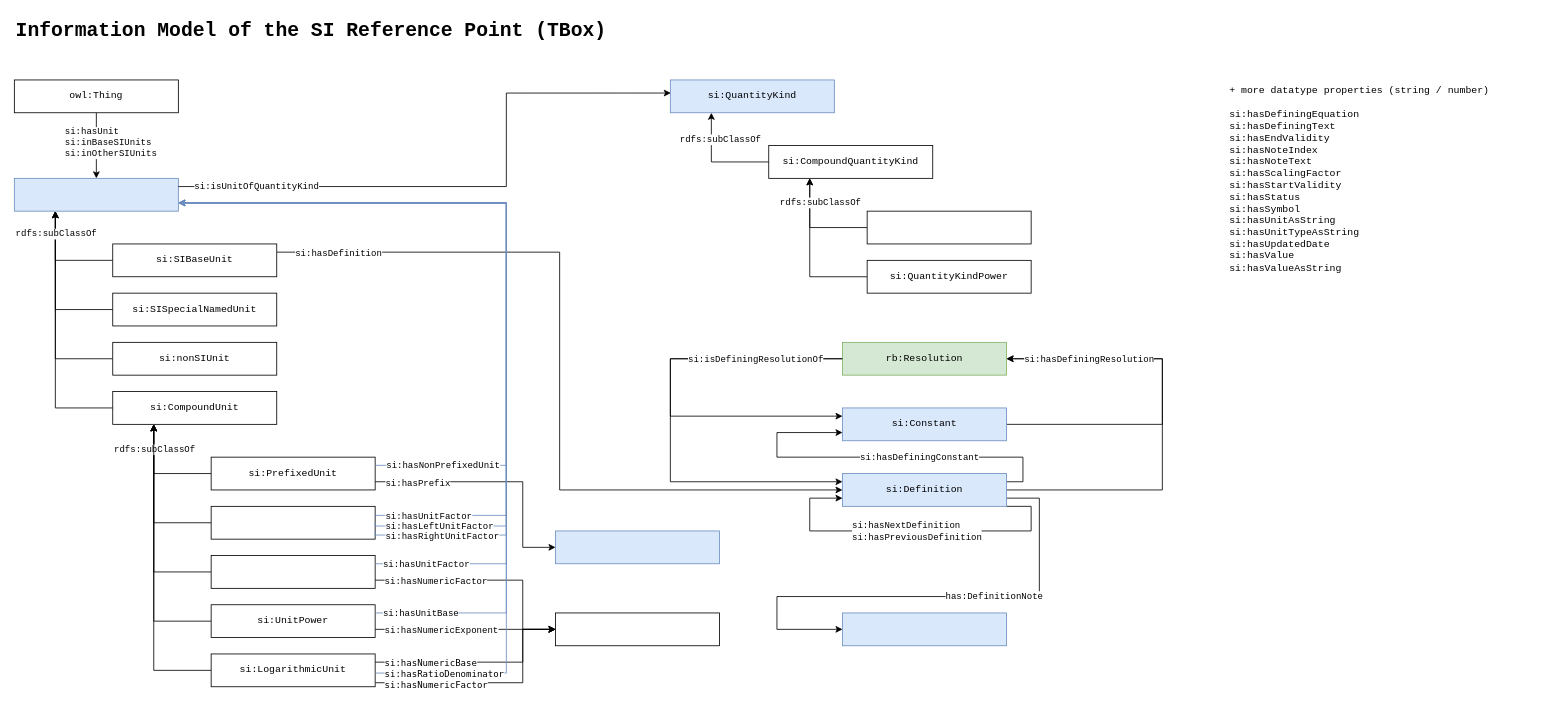
Some shapes in this 1554 by 704 pixel diagram are drawn without their labels. Each missing label, with the centre of its shape:
"<any datatype>" belongs at point 637,629.
"si:DefinitionNote" belongs at point 924,629.
"si:MeasurementUnit" belongs at point 96,194.
"si:QuantityKindProduct" belongs at point 948,227.
"si:SIPrefix" belongs at point 637,547.
"si:UnitMultiple" belongs at point 292,571.
"si:UnitProduct" belongs at point 292,522.
